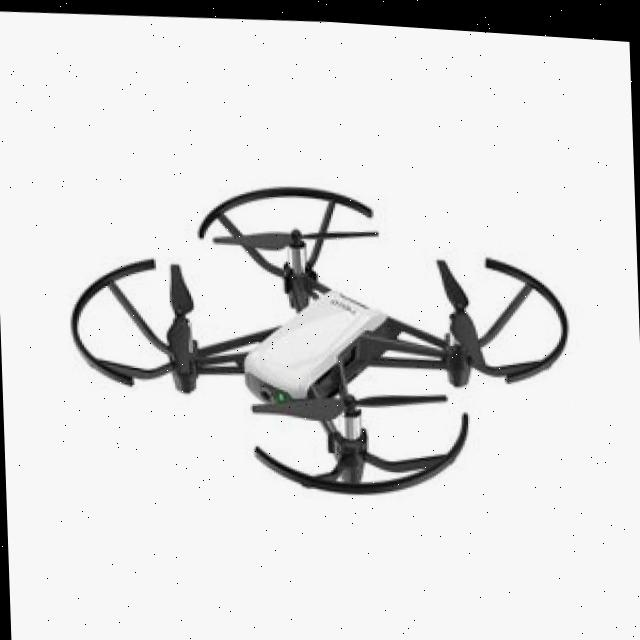drone: (64, 159, 594, 512)
